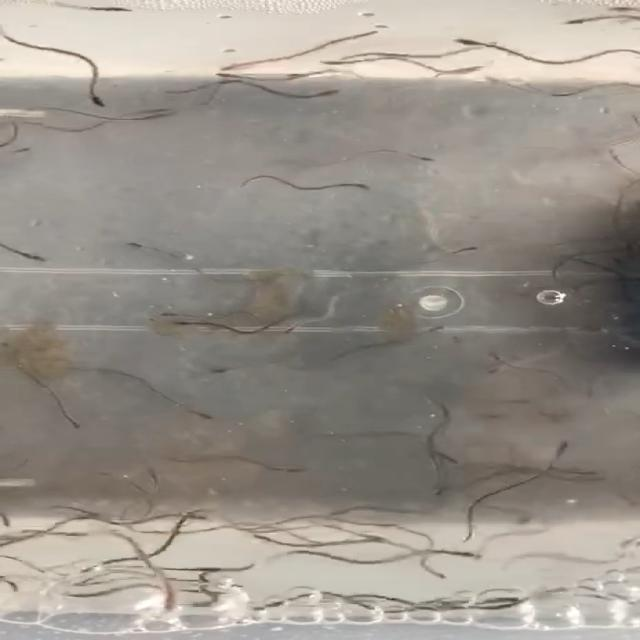active_glass_eel: (530, 80, 580, 102), (120, 235, 161, 259), (455, 238, 488, 266), (28, 244, 58, 272), (144, 305, 193, 322), (187, 405, 226, 425), (276, 460, 314, 480), (460, 64, 496, 85), (414, 392, 450, 413), (426, 486, 470, 503), (100, 6, 151, 20), (549, 439, 584, 459), (142, 103, 169, 127), (55, 419, 95, 434), (191, 64, 228, 80), (316, 86, 347, 105), (80, 94, 121, 108), (171, 320, 206, 336), (472, 348, 511, 362), (395, 503, 427, 520), (493, 590, 524, 607), (504, 513, 541, 527), (208, 364, 238, 381), (356, 528, 385, 545), (416, 323, 457, 335), (422, 149, 444, 171), (458, 34, 483, 52), (349, 178, 374, 196), (504, 394, 531, 410), (231, 557, 255, 575), (449, 546, 474, 563), (315, 58, 345, 72), (130, 468, 177, 476), (161, 596, 184, 612), (184, 510, 212, 523), (430, 568, 452, 584), (208, 57, 231, 71), (565, 15, 588, 28), (252, 532, 272, 543)
